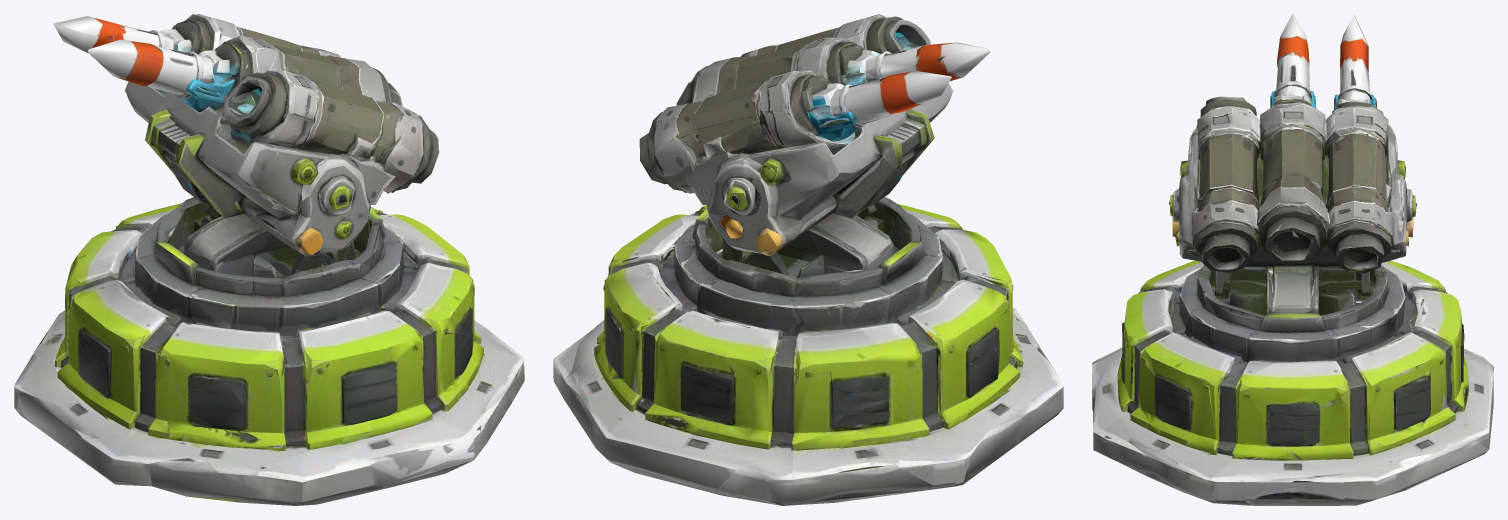
File: turret-mr.glb
The picture shows the model from 3 angles, left to right: view 1: azimuth 30°, elevation 25°; view 2: azimuth 150°, elevation 25°; view 3: azimuth 270°, elevation 25°; orthographic projection. The views are drawn at different scales.
Bounding box in the file's own units: 1.9 × 1.8 × 1.9.
1 material, 1 textured.
